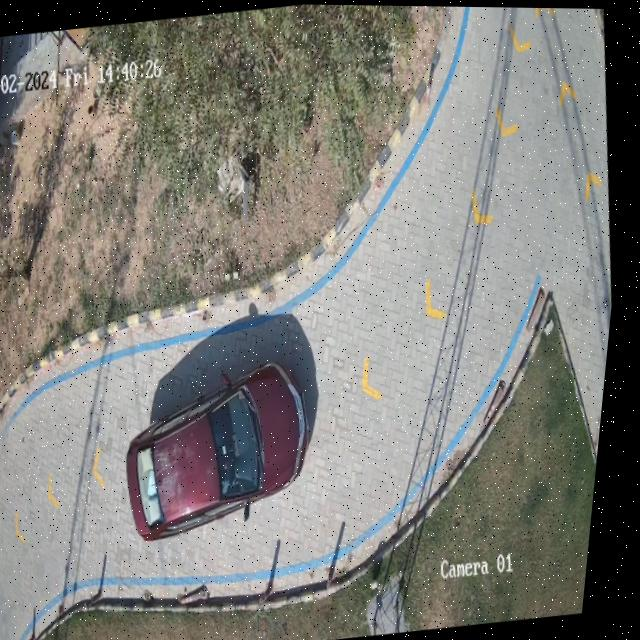car: (136, 363, 316, 539)
